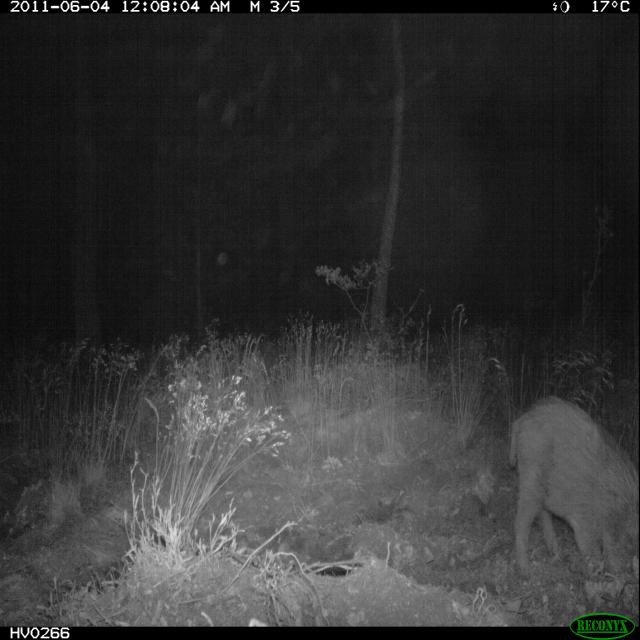boar: (482, 387, 640, 593)
